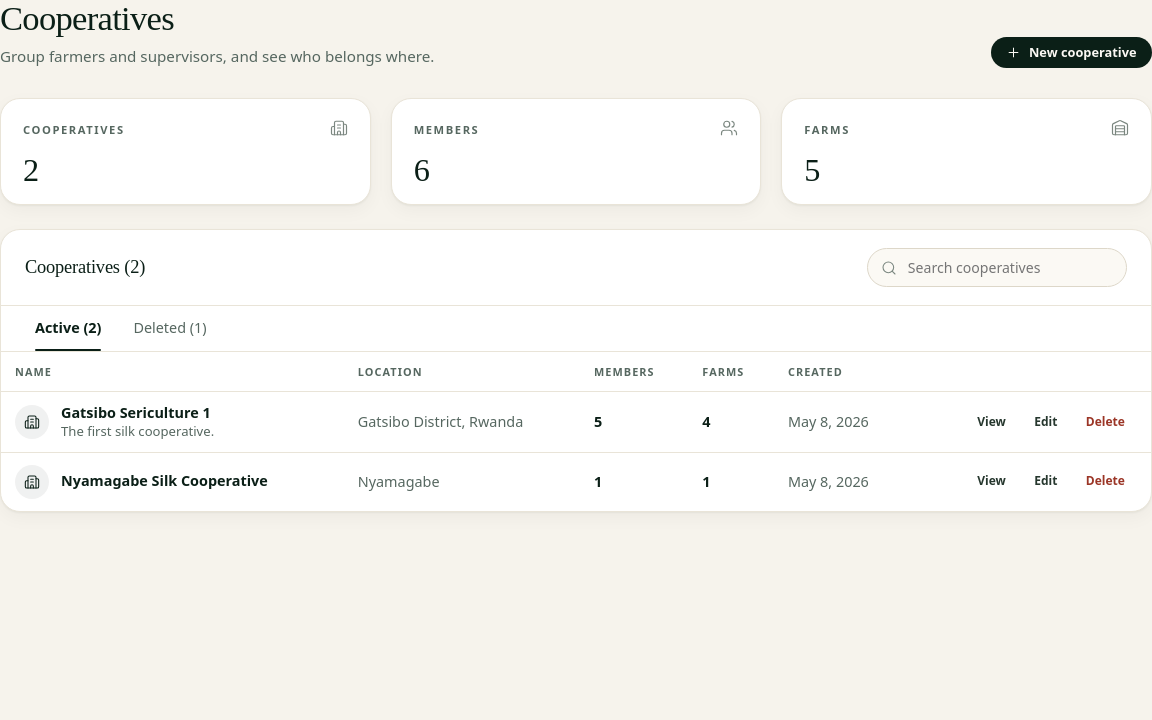
Test: Cooperatives page › needs a name before it creates
The width and height of the screenshot is (1152, 720).
Expected: the text "Gatsibo Sericulture 1" is shown, x1=61 y1=404 x2=214 y2=423
Click the button "New cooperative" at (1071, 53), box x1=990 y1=37 x2=1151 y2=68
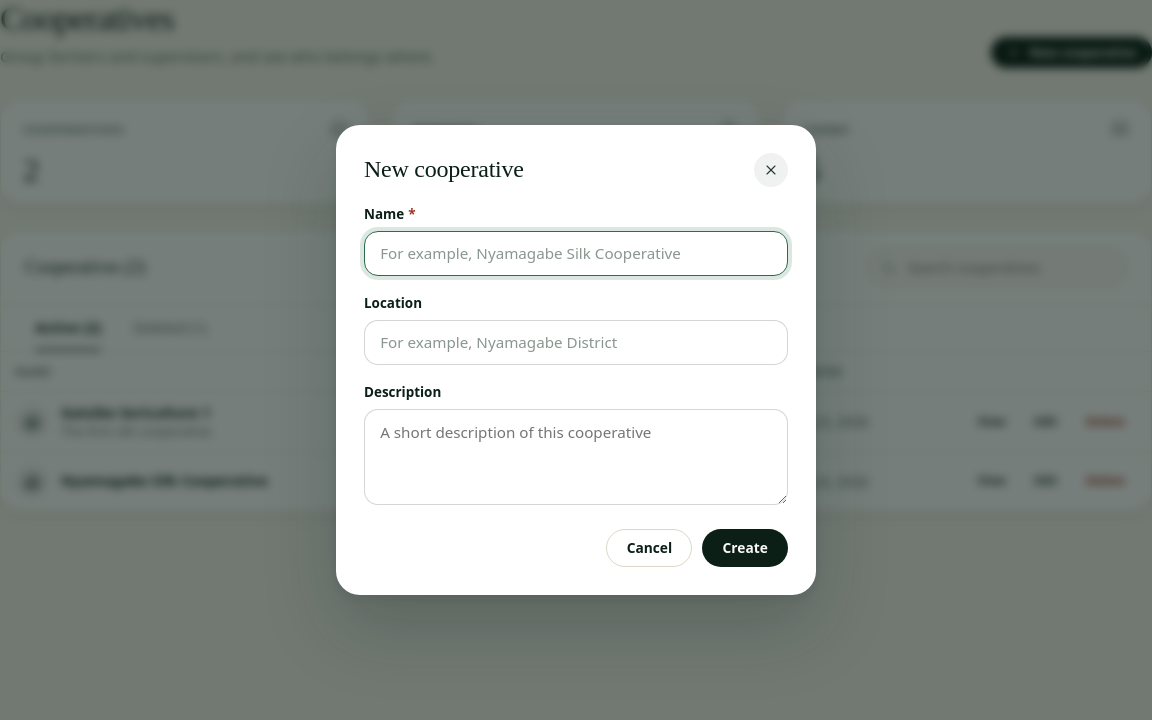
Click the button "Create" at (745, 548), box x1=702 y1=529 x2=788 y2=567
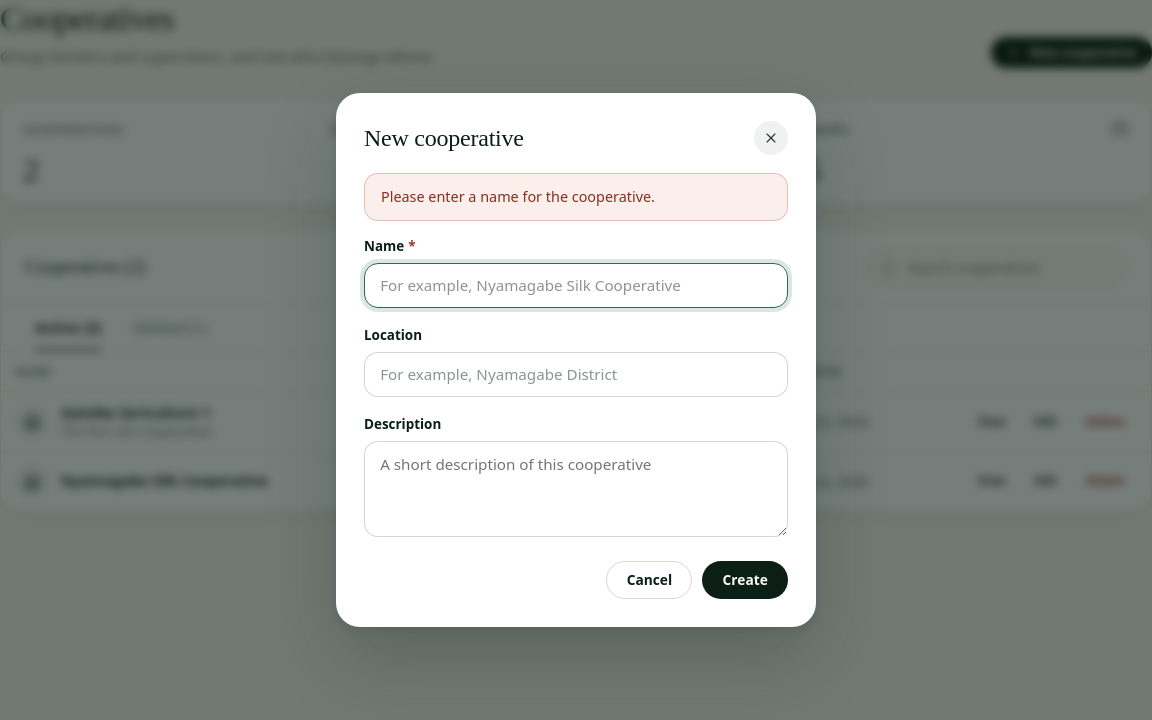
Now the message reads "Please enter a name for the cooperative.", box x1=381 y1=187 x2=655 y2=206
